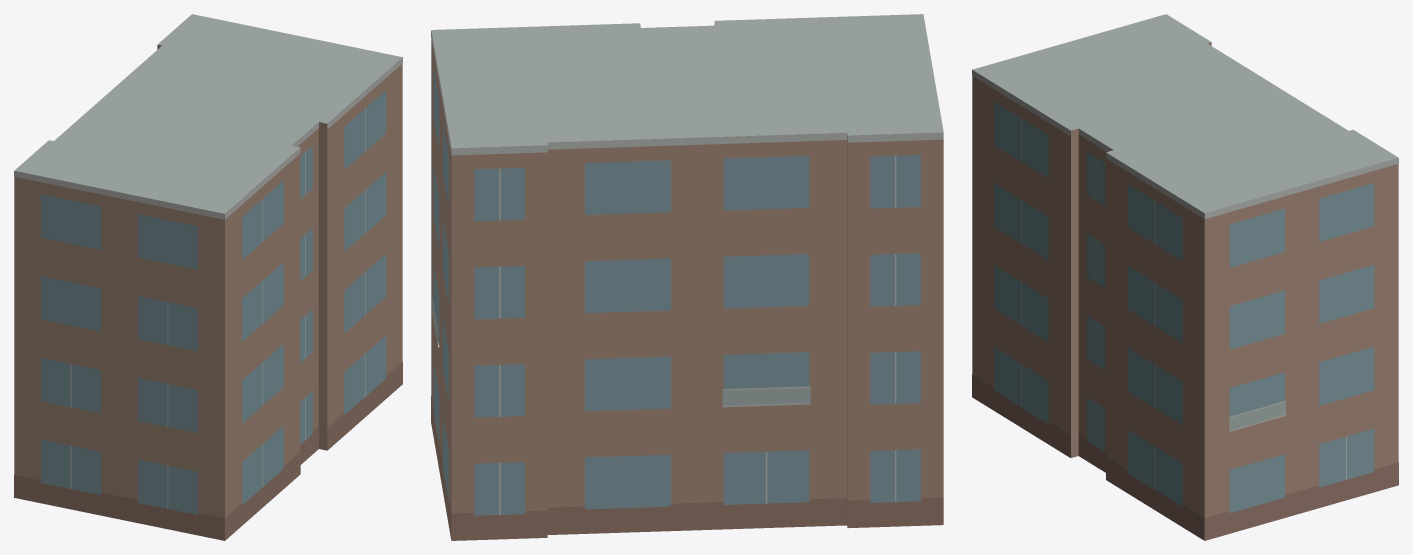
The model's file is survey-upis-33045566.glb.
3 views of the same model, side by side, from view 1: azimuth 30°, elevation 25°; view 2: azimuth 150°, elevation 25°; view 3: azimuth 270°, elevation 25° (orthographic). The views are drawn at different scales.
Visible parts, largest first — view 1: survey-upis-33045566.tmp; view 2: survey-upis-33045566.tmp; view 3: survey-upis-33045566.tmp.
Boxes of the visible parts, x1,y1,x2,y2 form: survey-upis-33045566.tmp: (14, 14, 402, 540); survey-upis-33045566.tmp: (431, 14, 943, 540); survey-upis-33045566.tmp: (972, 14, 1398, 540).
Bounding box in the file's own units: 17.52 × 13.42 × 15.85.
